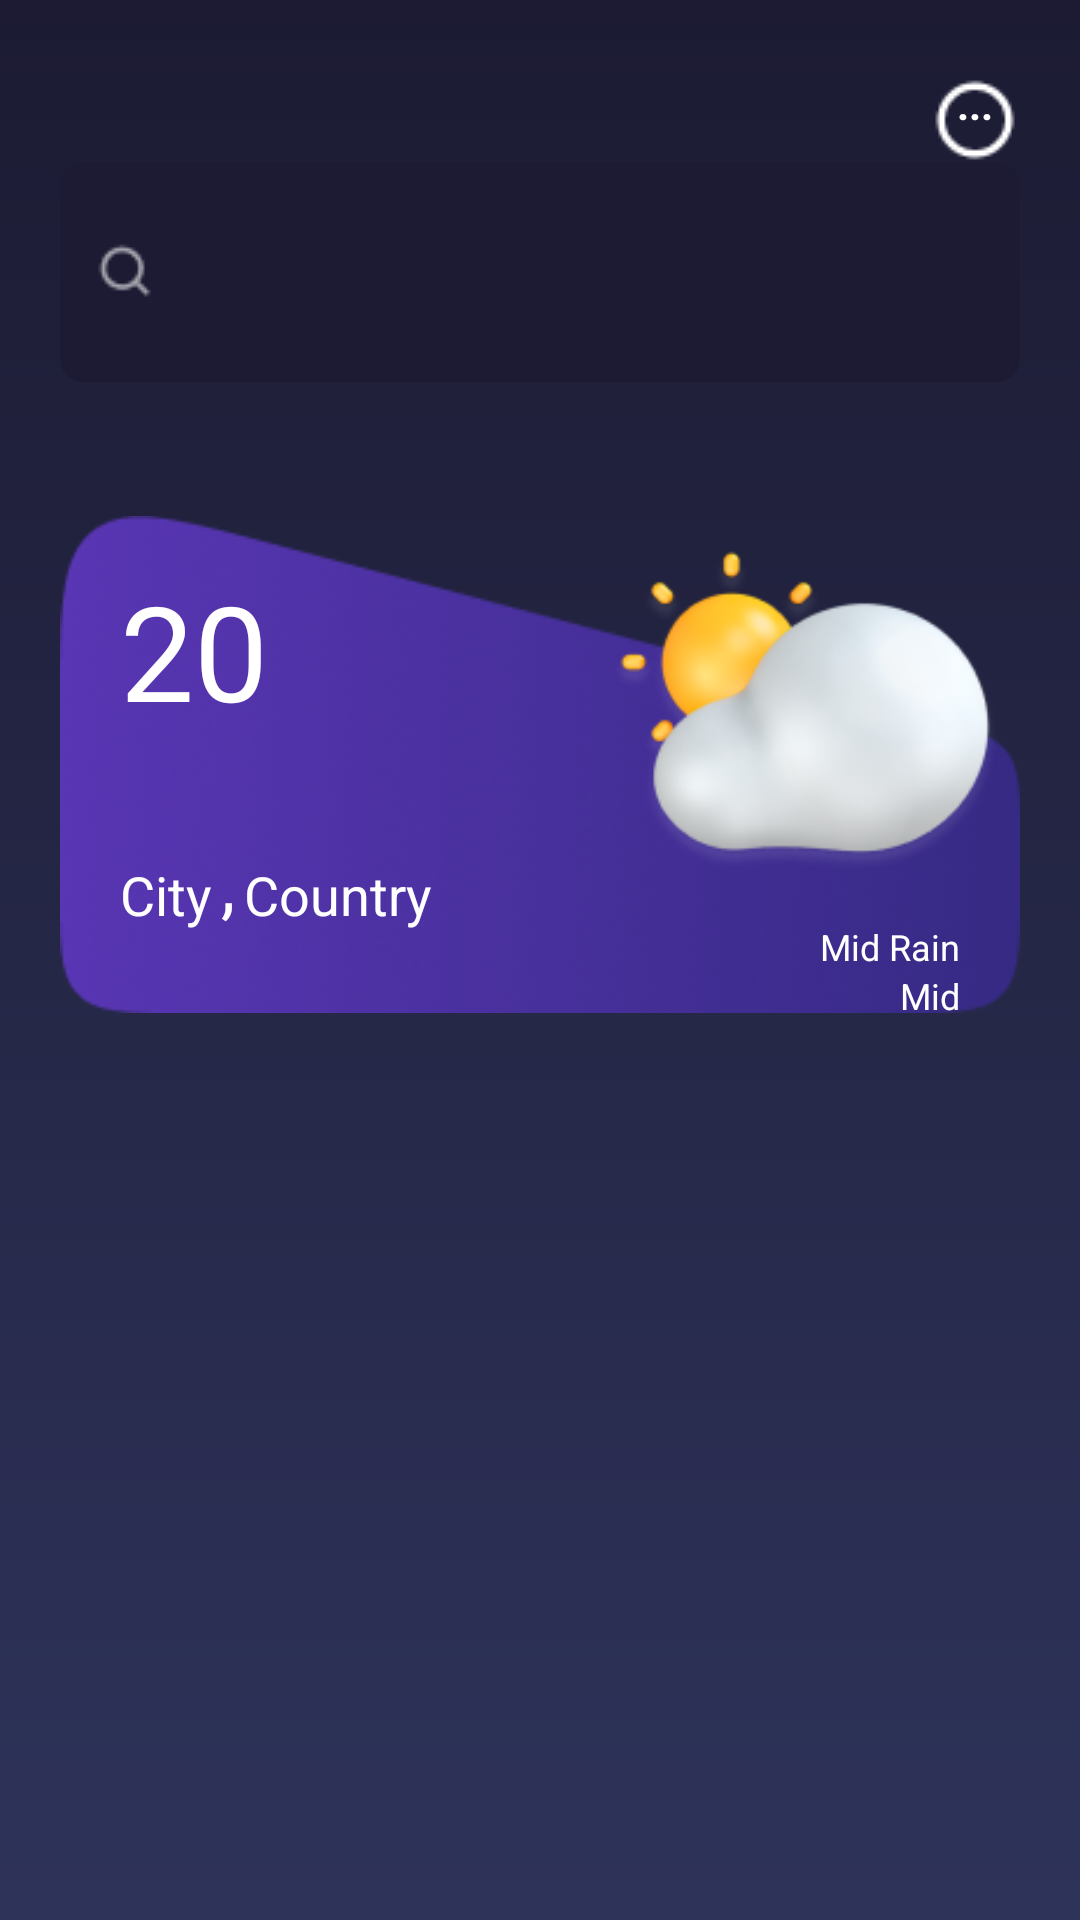

Icons on this 1080 × 1920 Android screen, each with the point to tap as [x,y]:
circle: [975,120]
search: [124,270]
